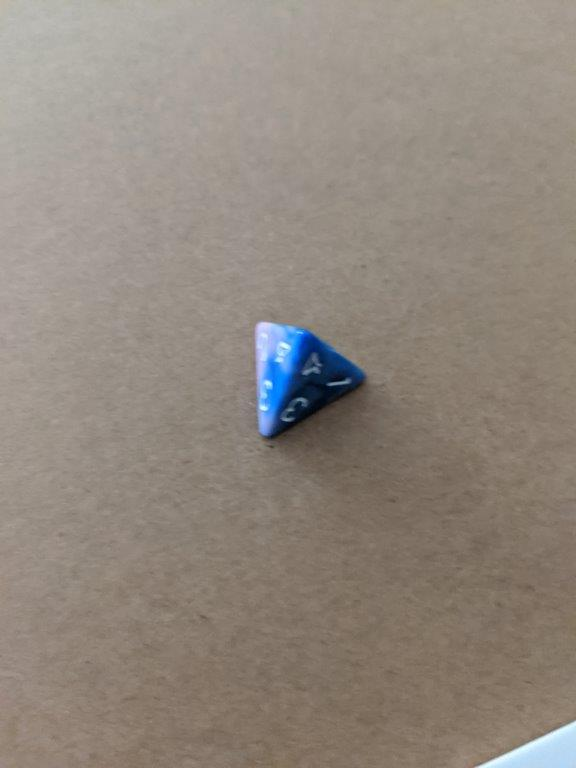d4-4: (250, 314, 368, 441)
